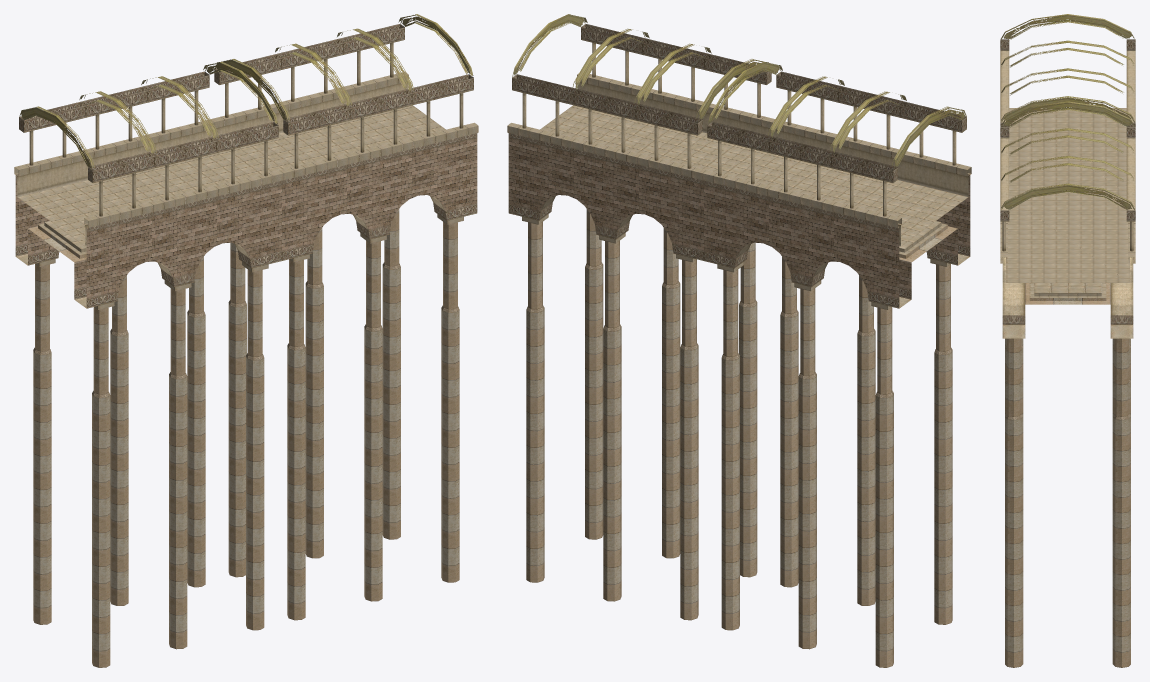
File: thm_nboo_imprv_enclosed_walkway_s02_l0.fbx
3 renders of one model, left to right at view 1: azimuth 30°, elevation 25°; view 2: azimuth 150°, elevation 25°; view 3: azimuth 270°, elevation 25°, orthographic. The views are drawn at different scales.
Visible parts, largest first — view 1: mesh_node; view 2: mesh_node; view 3: mesh_node.
Part boxes in pixels (bbox=[...]): mesh_node: bbox=[14, 14, 478, 667]; mesh_node: bbox=[507, 14, 971, 667]; mesh_node: bbox=[1000, 14, 1135, 667].
Size of the model in its own units: 16.5 by 21.4 by 5.39.
